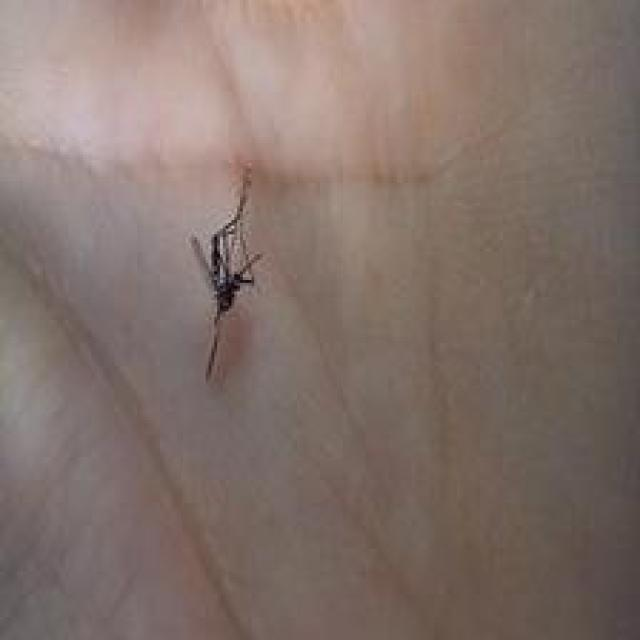Aedes albopictus: (187, 163, 264, 383)
